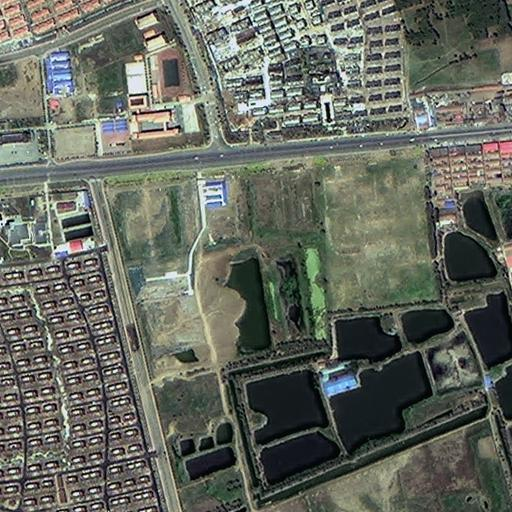school: (87, 4, 211, 160)
